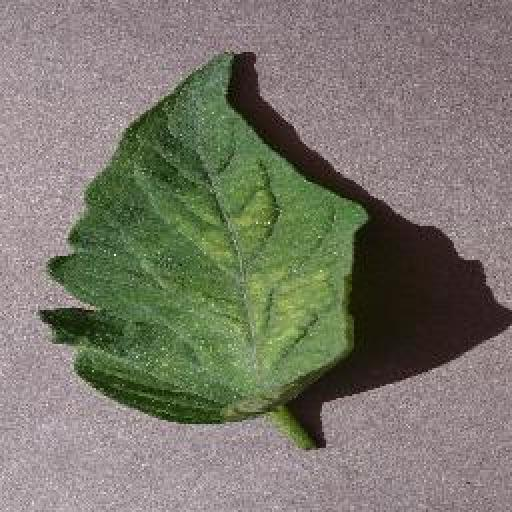disease_tomato: (38, 49, 370, 428)
